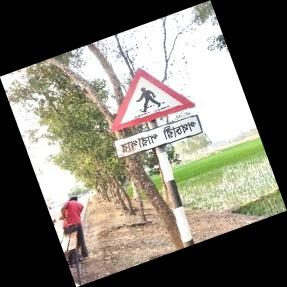Pedestrian-crossing: (110, 68, 202, 160)
